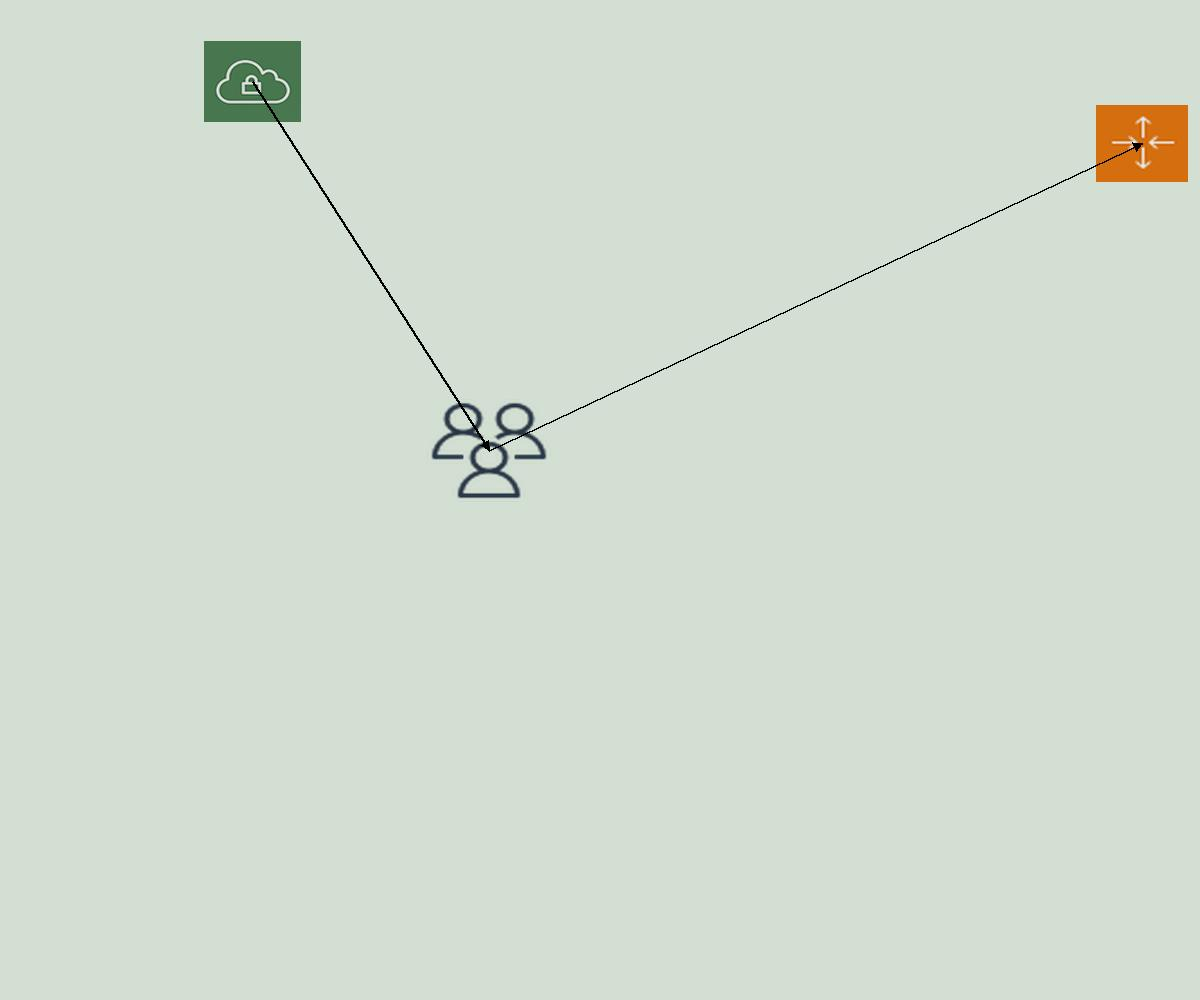AWS-Private_vpc: (204, 41, 301, 122)
AWS-Res_Users: (427, 399, 551, 502)
AWS-Scaling-group: (1096, 105, 1188, 182)
